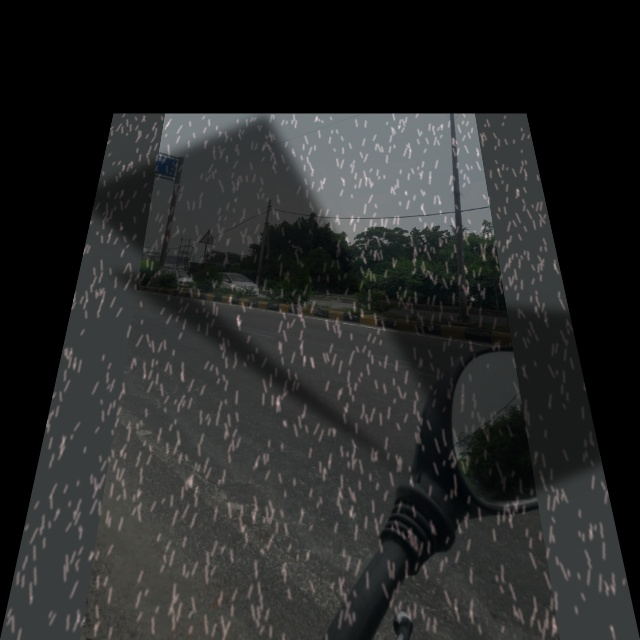Gap_in_Median: (197, 226, 218, 247)
